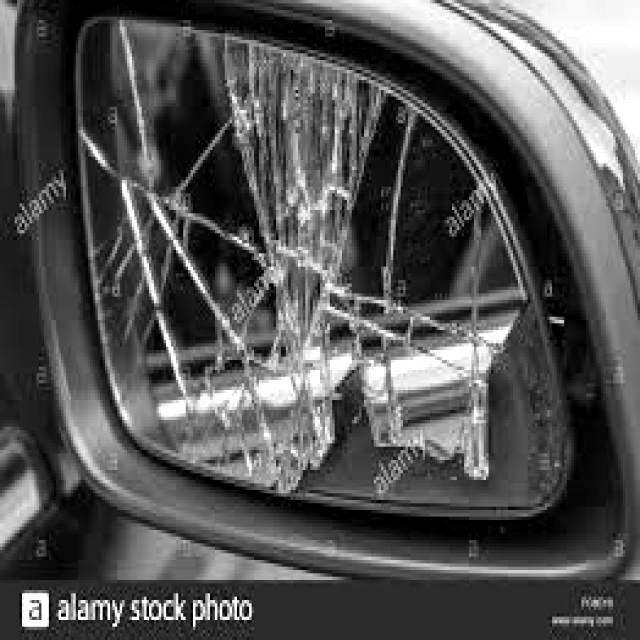Sidemirror-Damage: (24, 0, 638, 604)
